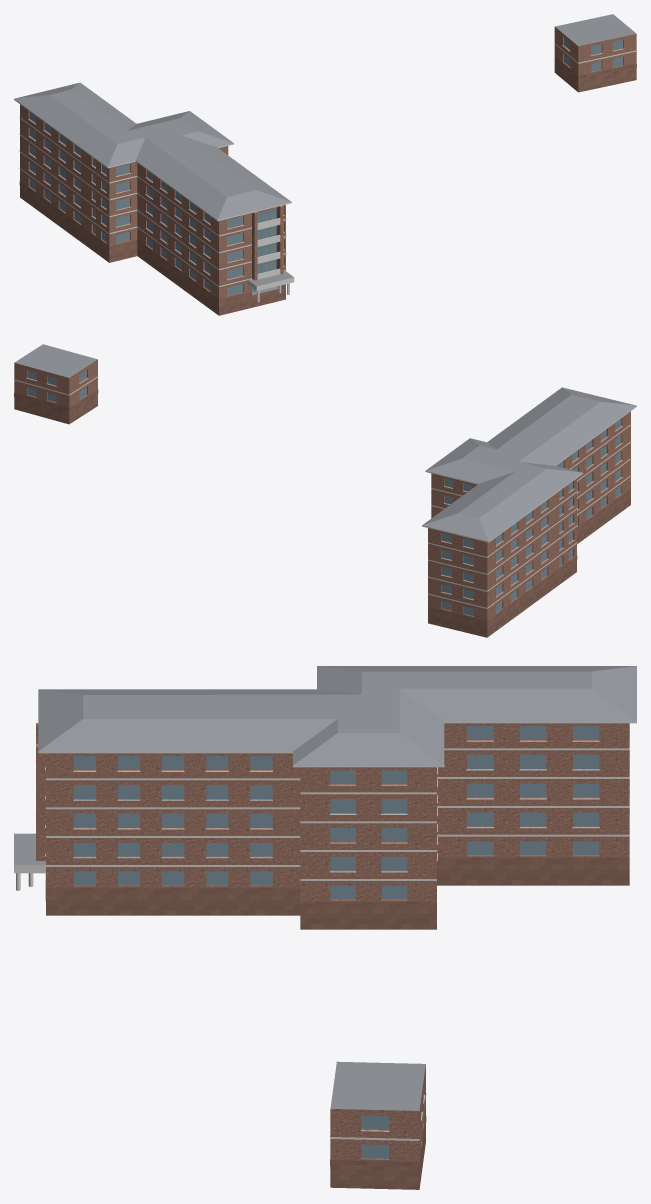
3 renders of one model, top to bottom at view 1: azimuth 30°, elevation 25°; view 2: azimuth 150°, elevation 25°; view 3: azimuth 270°, elevation 25°, orthographic. The views are drawn at different scales.
Parts seen in each view (by area): view 1: somangGwanN16__wall, somangGwanN16__roof, somangGwanN16__base, somangGwanN16__glass, somangGwanN16__trim; view 2: somangGwanN16__wall, somangGwanN16__roof, somangGwanN16__base, somangGwanN16__glass, somangGwanN16__trim; view 3: somangGwanN16__wall, somangGwanN16__roof, somangGwanN16__base, somangGwanN16__glass, somangGwanN16__trim.
Boxes of the visible parts, <box> form: somangGwanN16__wall: <box>20,27,636,302</box>; somangGwanN16__roof: <box>14,14,636,295</box>; somangGwanN16__base: <box>19,57,636,315</box>; somangGwanN16__glass: <box>29,38,622,295</box>; somangGwanN16__trim: <box>14,43,636,291</box>; somangGwanN16__wall: <box>14,359,630,624</box>; somangGwanN16__roof: <box>14,344,636,541</box>; somangGwanN16__base: <box>14,389,630,637</box>; somangGwanN16__glass: <box>27,370,621,616</box>; somangGwanN16__trim: <box>14,376,636,608</box>; somangGwanN16__wall: <box>36,723,629,1166</box>; somangGwanN16__roof: <box>14,666,636,1110</box>; somangGwanN16__base: <box>45,857,629,1189</box>; somangGwanN16__glass: <box>73,726,599,1158</box>; somangGwanN16__trim: <box>14,721,636,1140</box>.
Size of the model in its own units: 113 by 21.34 by 66.56.
8 materials, 2 textured.
